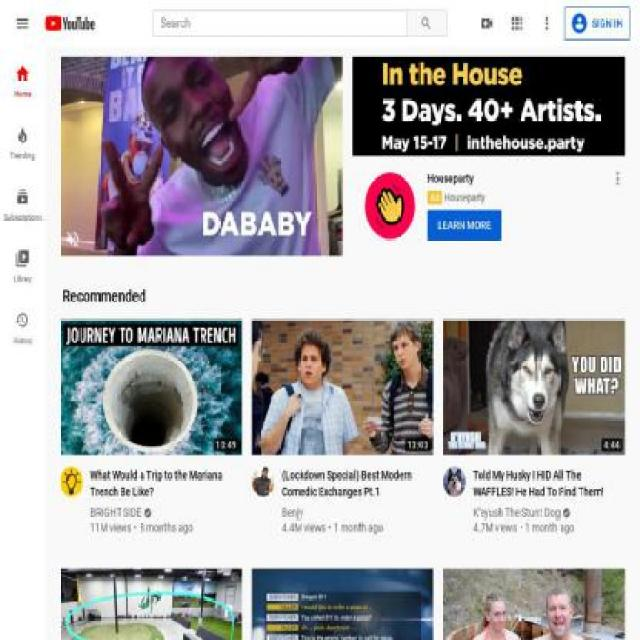button: (60, 319, 242, 456), (443, 319, 625, 456), (252, 319, 433, 456), (443, 568, 626, 640), (252, 568, 434, 640), (61, 568, 242, 640), (281, 467, 419, 501), (90, 467, 227, 501), (473, 467, 610, 501), (364, 172, 416, 240), (0, 50, 45, 112), (0, 173, 45, 235), (0, 235, 45, 297), (0, 112, 45, 173), (0, 297, 45, 358), (427, 209, 502, 240), (564, 7, 630, 39), (472, 504, 562, 522), (405, 9, 447, 37), (44, 13, 96, 33), (90, 504, 142, 522), (60, 467, 83, 498), (443, 467, 466, 498), (252, 467, 274, 498), (445, 190, 486, 205), (282, 504, 304, 522), (479, 13, 495, 33), (509, 13, 525, 33), (539, 13, 555, 33), (15, 13, 30, 33), (65, 229, 80, 249), (610, 168, 625, 188)
field: (160, 12, 405, 34)
